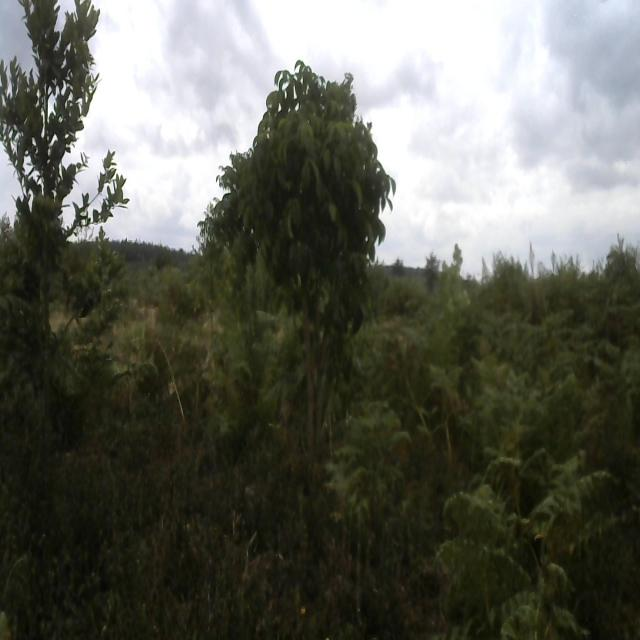Vitex keniensis: (231, 48, 398, 539)
other: (0, 2, 128, 374)
